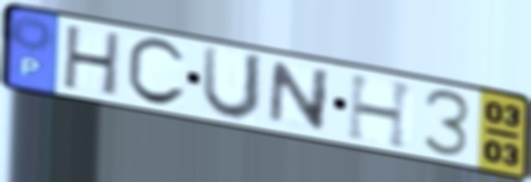3: (420, 86, 473, 161)
C: (123, 36, 190, 109)
H: (344, 71, 419, 152), (59, 23, 126, 100)
N: (264, 59, 334, 135)
U: (198, 42, 268, 124)
